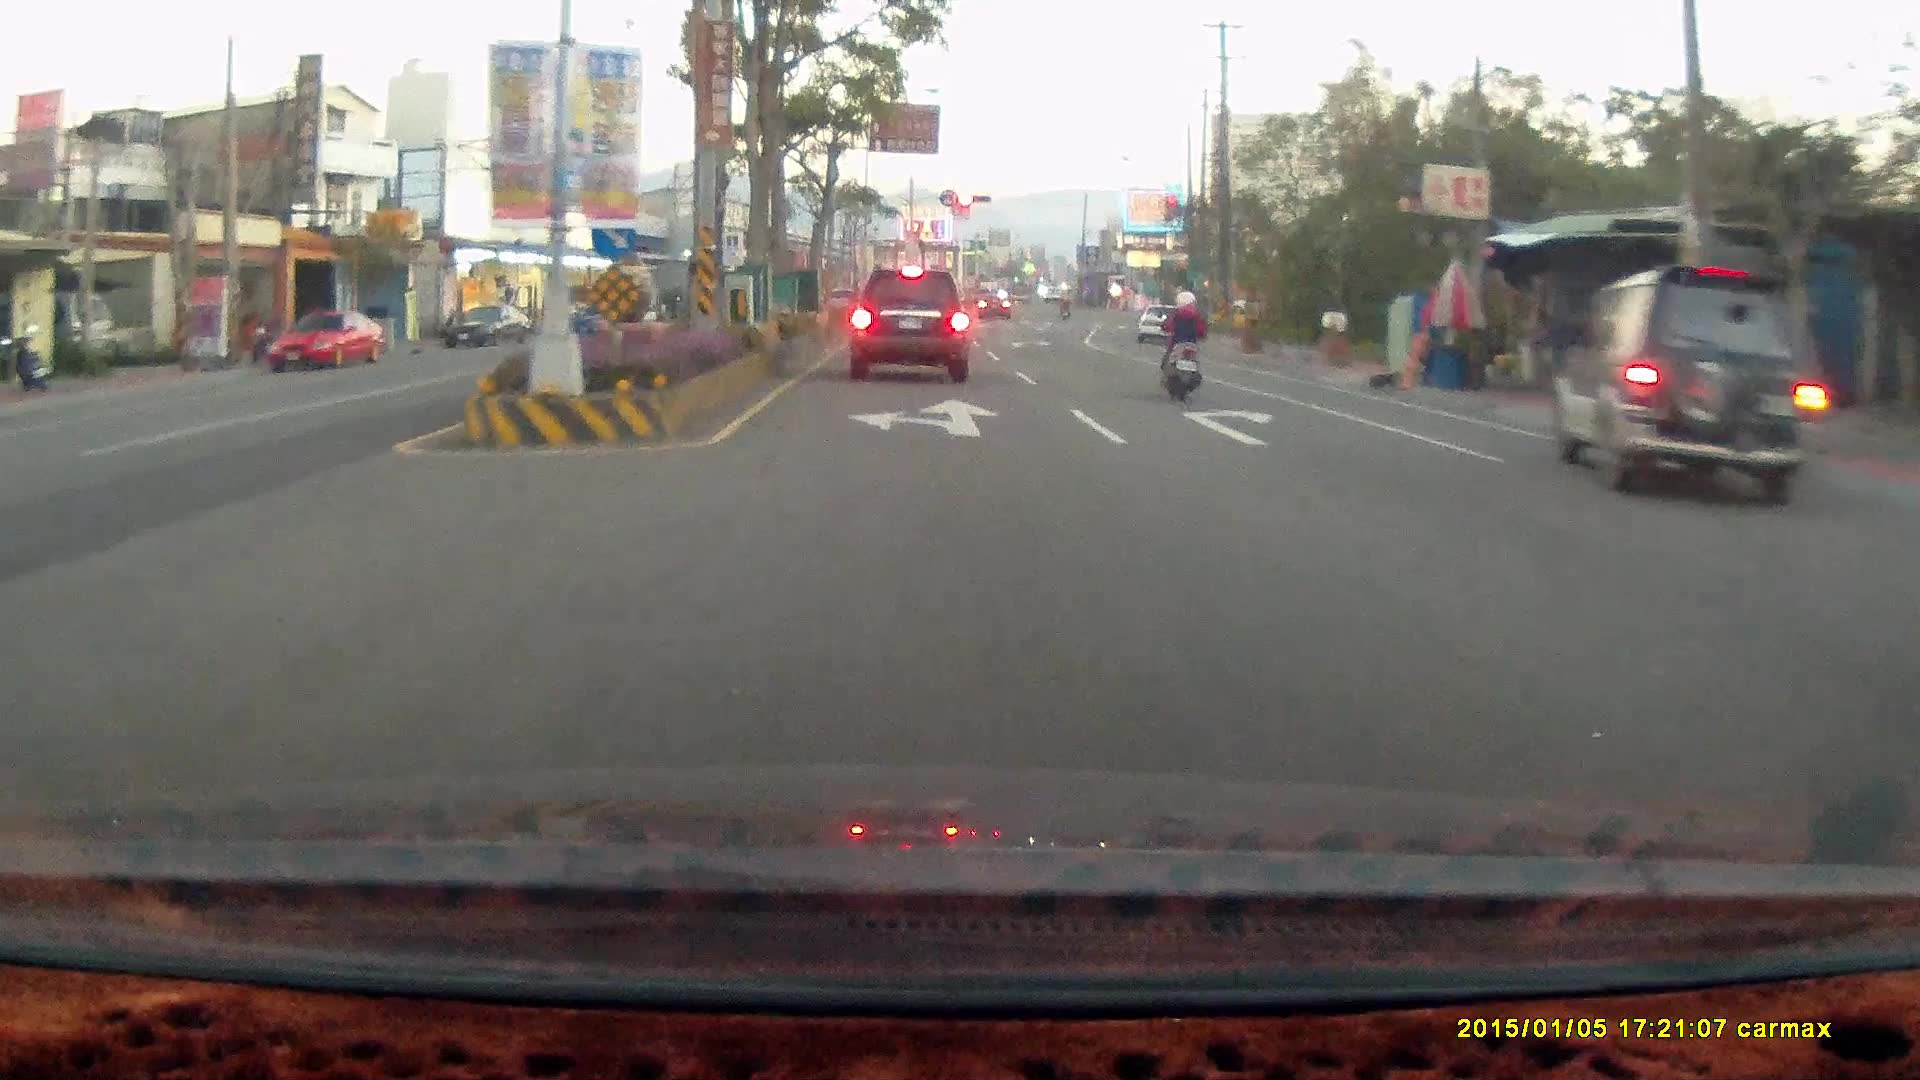rider: (1159, 289, 1207, 399)
vehicle: (1549, 264, 1828, 506), (1553, 265, 1829, 501), (847, 264, 967, 379), (268, 309, 393, 376), (1896, 493, 1920, 836), (264, 306, 386, 371), (1883, 528, 1920, 690), (450, 302, 536, 353), (1137, 304, 1193, 346), (1137, 304, 1192, 344)
